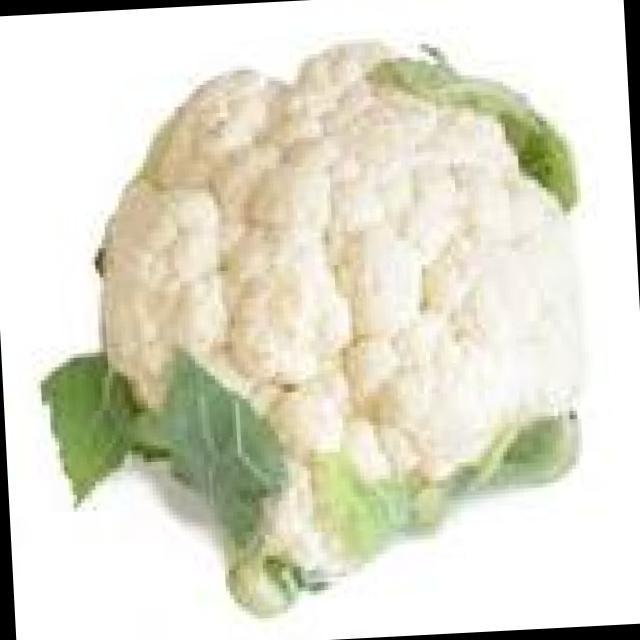Cauliflower: (3, 2, 626, 631)
